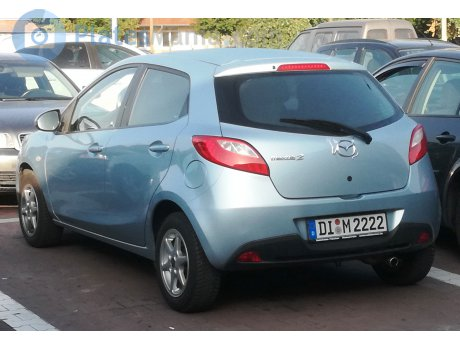License Plates: (318, 215, 394, 231)
